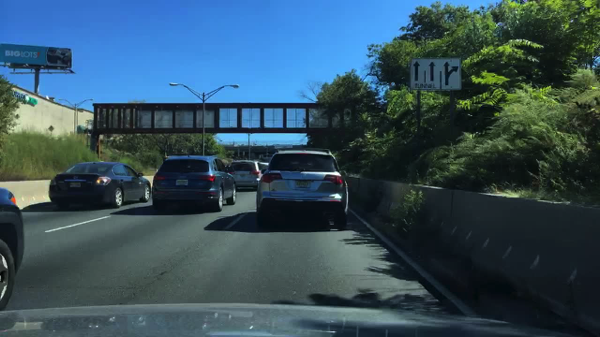car: (256, 149, 348, 225), (47, 160, 150, 211), (151, 154, 237, 211), (0, 188, 26, 309), (229, 159, 261, 191), (259, 158, 272, 169)
traffic sign: (411, 58, 461, 89)
